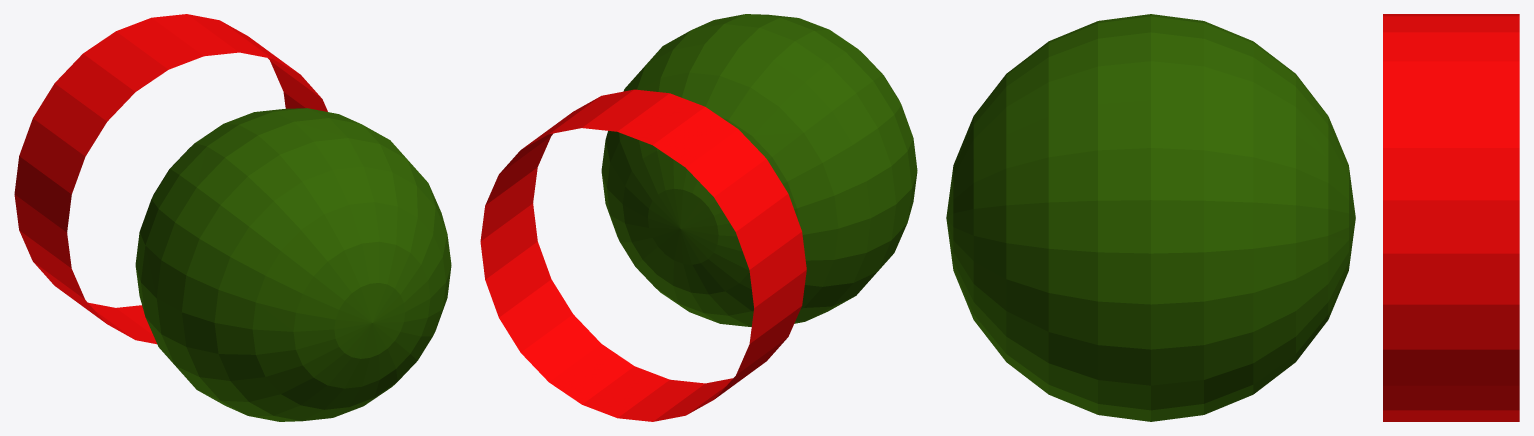
File: LPEo150cm.obj
The picture shows the model from 3 angles, left to right: view 1: azimuth 30°, elevation 25°; view 2: azimuth 150°, elevation 25°; view 3: azimuth 270°, elevation 25°; orthographic projection. The views are drawn at different scales.
Bounding box in the file's own units: 1.5 × 1.5 × 2.1.
